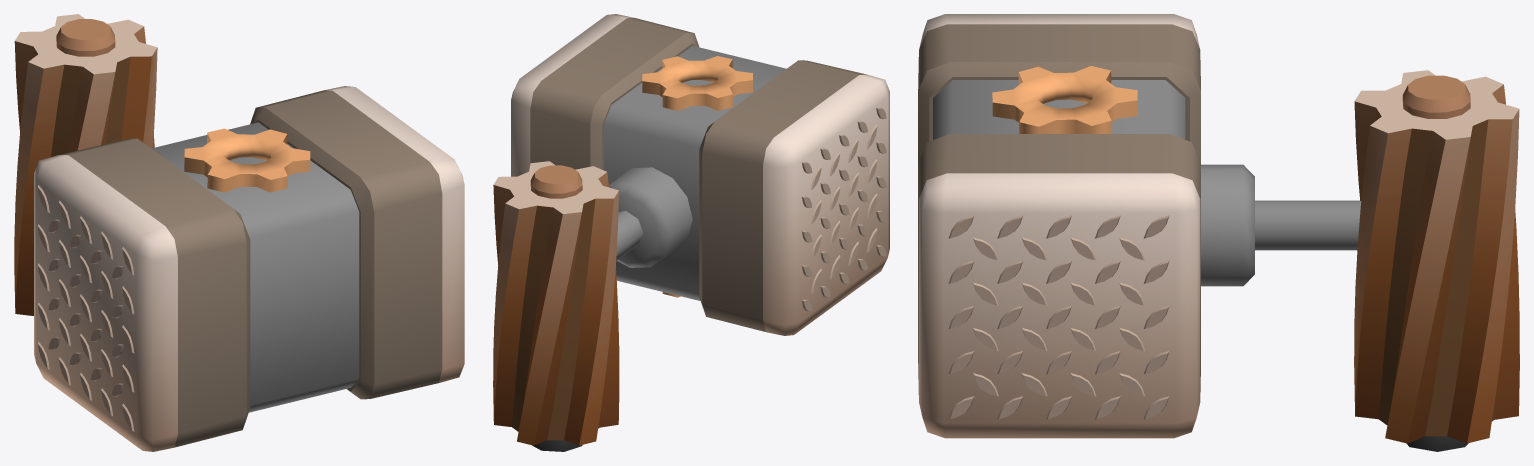
The model's file is obstacle_12_001.fbx.
3 renders of one model, left to right at view 1: azimuth 30°, elevation 25°; view 2: azimuth 150°, elevation 25°; view 3: azimuth 270°, elevation 25°, orthographic. The views are drawn at different scales.
Parts seen in each view (by area): view 1: obstacle_12_001; view 2: obstacle_12_001; view 3: obstacle_12_001.
Part boxes in pixels (x1,y1,x2,y2): obstacle_12_001: [14, 14, 464, 451]; obstacle_12_001: [493, 14, 889, 451]; obstacle_12_001: [918, 14, 1519, 451].
Bounding box in the file's own units: 195 × 267 × 170.
